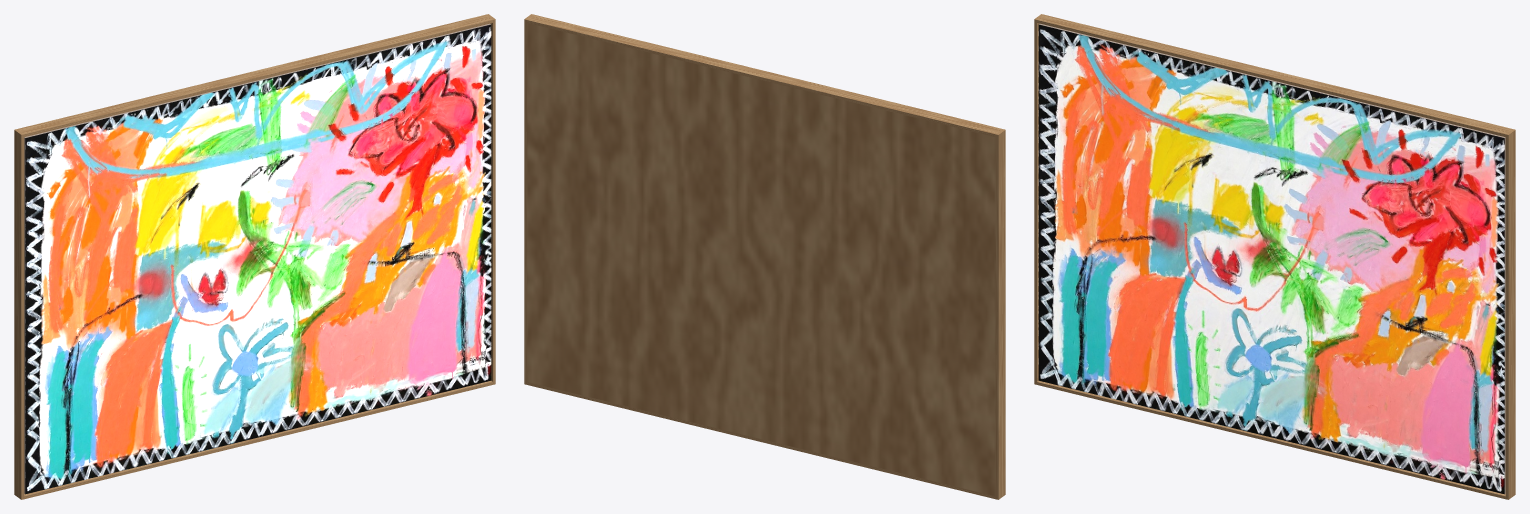
Rendered from in-the-garden-oak.glb.
The picture shows the model from 3 angles, left to right: view 1: azimuth 30°, elevation 25°; view 2: azimuth 150°, elevation 25°; view 3: azimuth 330°, elevation 25°; orthographic projection.
Parts seen in each view (by area): view 1: painting; view 2: painting; view 3: painting.
Part boxes in pixels (x1,y1,x2,y2): painting: (14, 14, 495, 499); painting: (524, 14, 1005, 499); painting: (1034, 14, 1515, 499).
Bounding box in the file's own units: 1.7 × 1.25 × 0.045.
3 materials, 2 textured.
